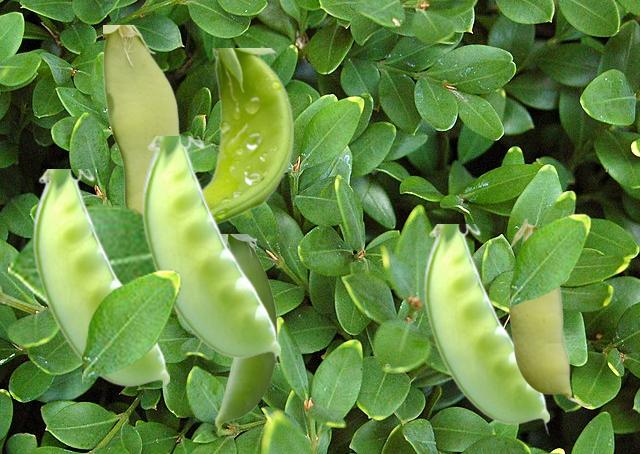pea: (141, 136, 279, 370), (32, 169, 168, 398), (423, 224, 548, 435), (507, 218, 591, 406), (203, 48, 292, 224), (103, 25, 180, 210), (215, 234, 276, 427)
